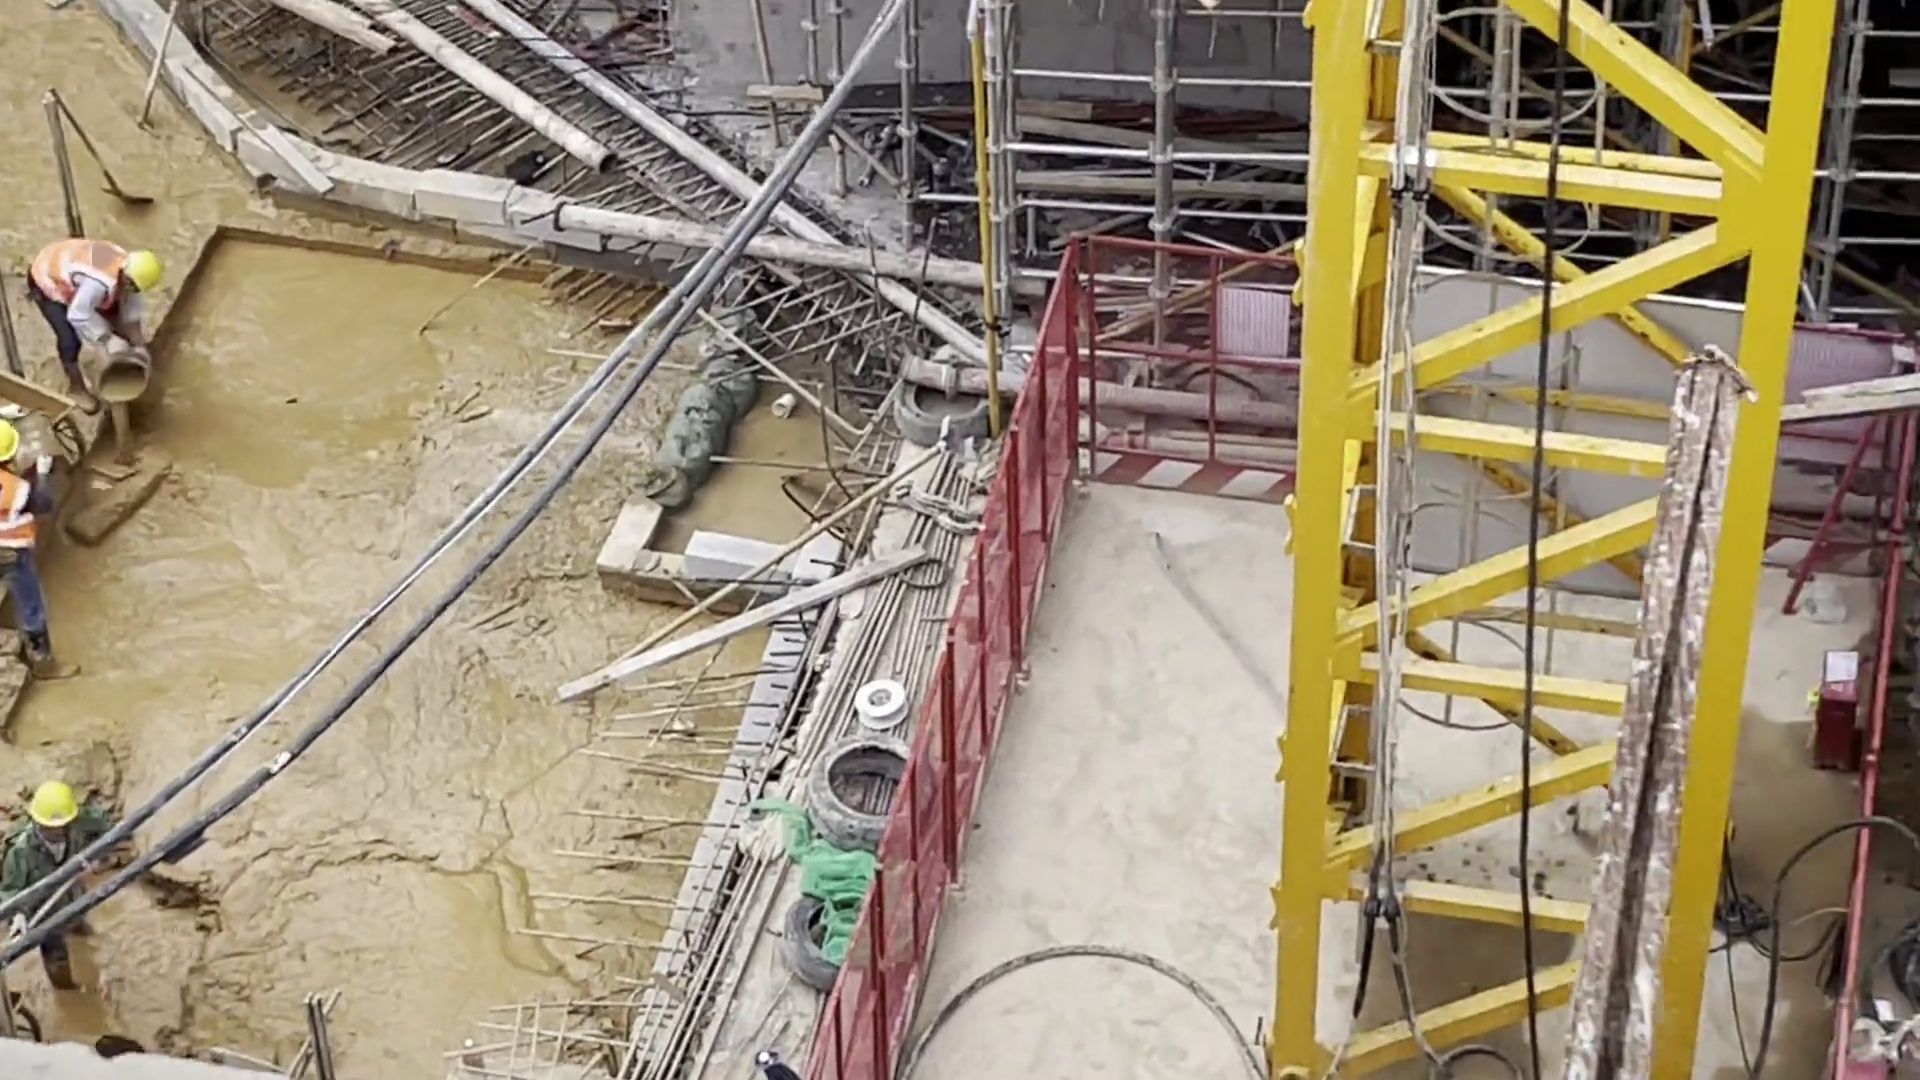helmet: (23, 778, 77, 827), (123, 250, 159, 293), (1, 411, 19, 464)
person: (21, 231, 173, 402), (1, 776, 101, 996), (1, 410, 80, 680)
vest: (30, 235, 127, 300), (1, 468, 32, 543)
